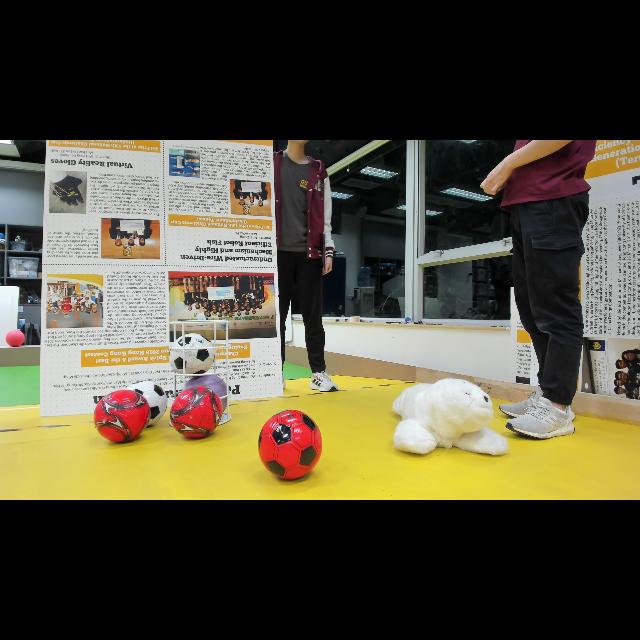P: (178, 368, 230, 420)
R: (255, 408, 329, 482), (88, 384, 154, 448), (169, 383, 225, 445), (2, 328, 28, 347)
S: (164, 316, 234, 432)
